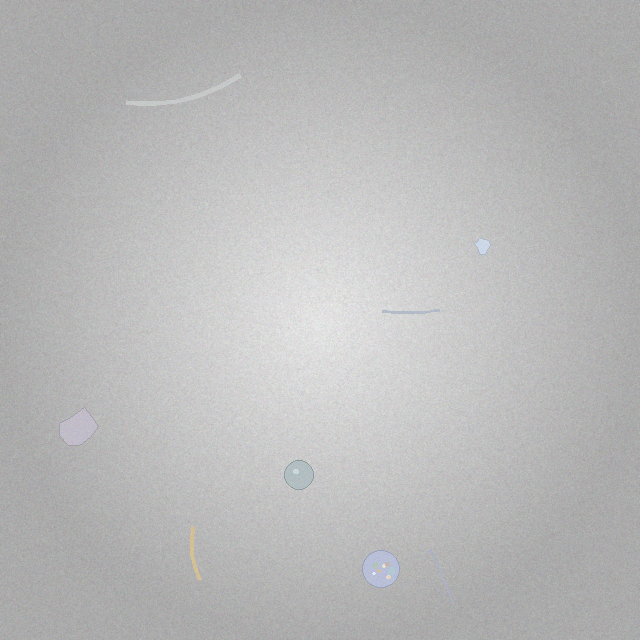fiber: (121, 70, 246, 109), (428, 547, 455, 606), (187, 523, 204, 584), (379, 307, 443, 316)
foam: (363, 550, 400, 588)
fragment: (60, 407, 98, 446), (474, 238, 490, 254)
pellet: (285, 460, 314, 489)
